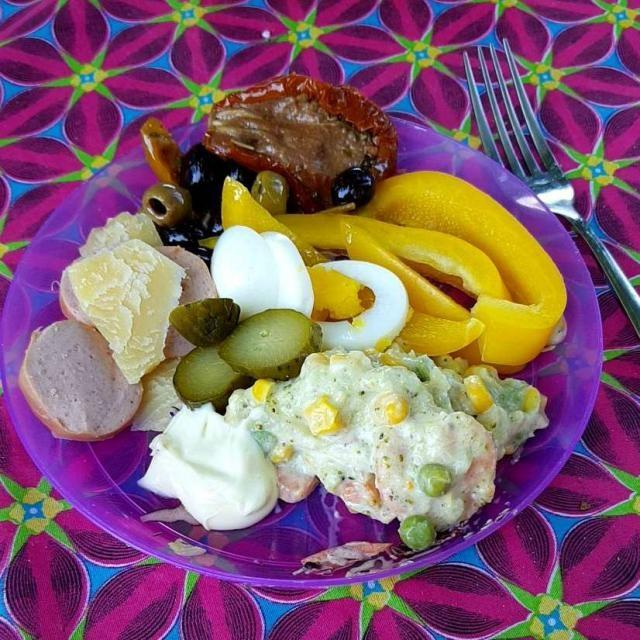bell-pepper: (225, 146, 558, 359)
black-olives: (139, 143, 385, 223)
cervelat: (30, 242, 207, 457)
cheese: (65, 209, 179, 390)
egg: (217, 223, 414, 346)
mayonnaise: (139, 406, 299, 529)
tomato: (193, 69, 390, 178)
